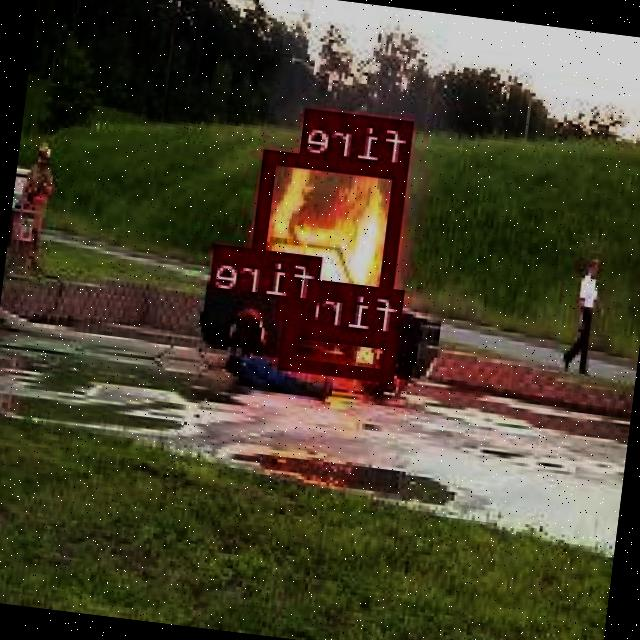fire: (252, 148, 409, 298), (282, 320, 400, 380), (280, 296, 318, 322)
